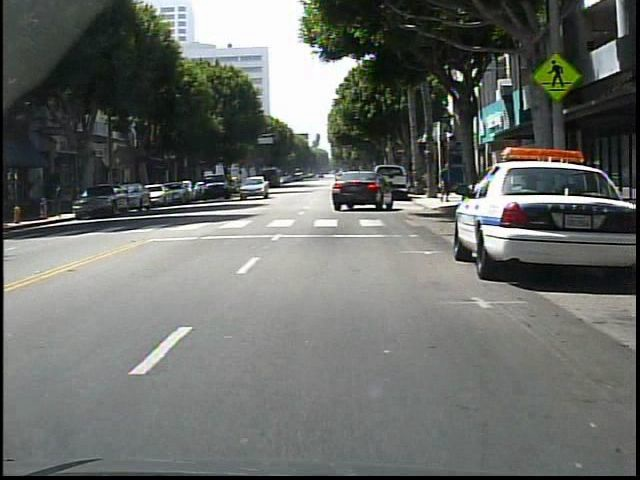person: (435, 161, 457, 205)
